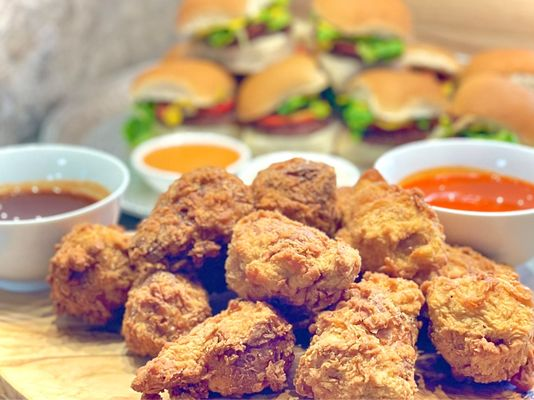soup: (121, 55, 237, 151)
sushi: (374, 137, 534, 269), (0, 142, 130, 292)
taco: (132, 130, 252, 191)
